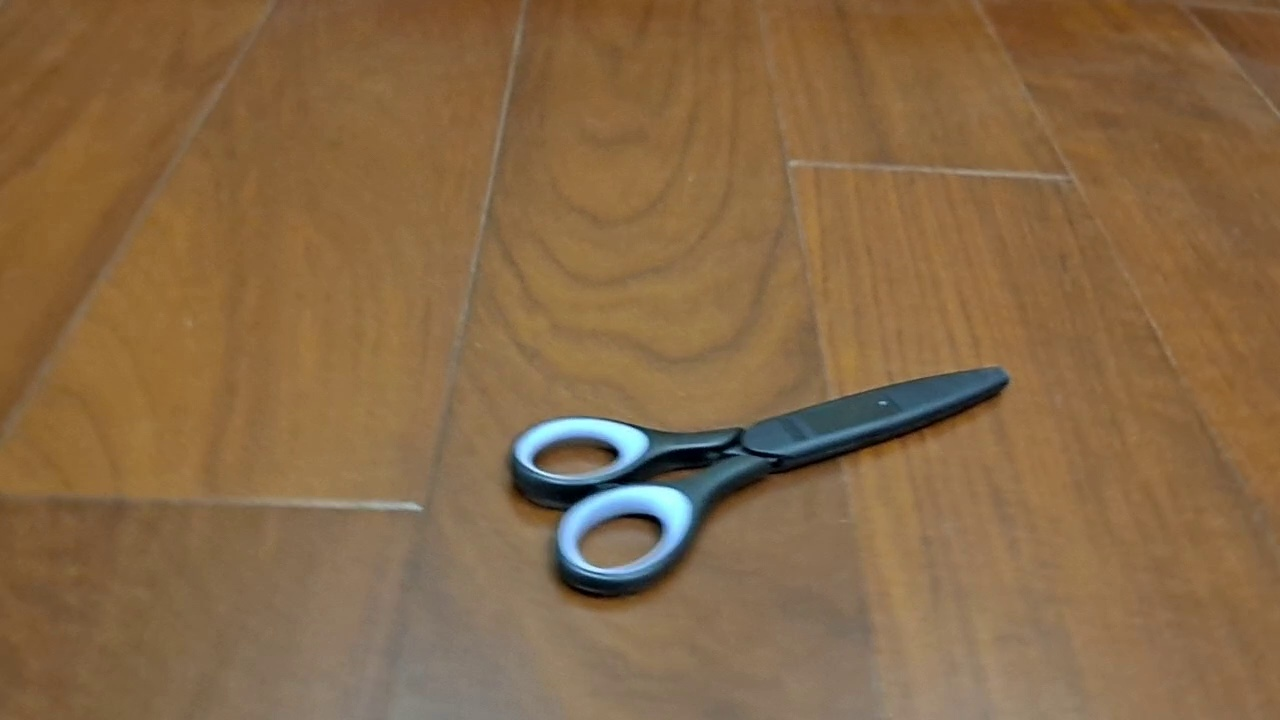scissors: (505, 364, 1012, 601)
